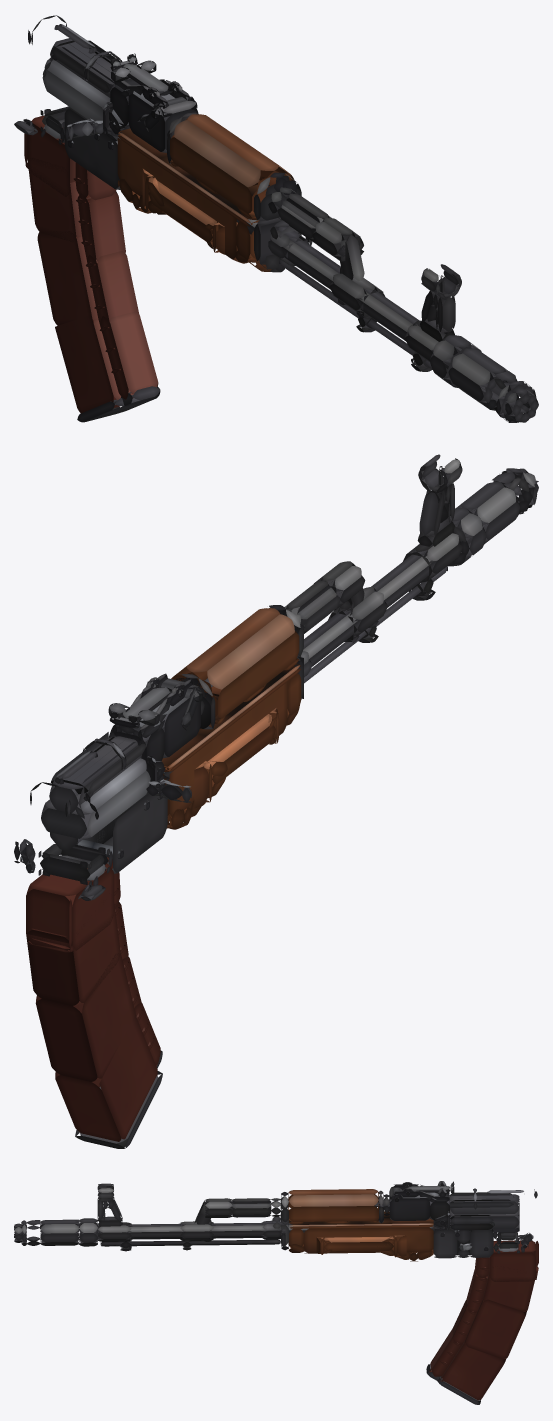
File: Untitledtttttttttttt.fbx
The picture shows the model from 3 angles, top to bottom: view 1: azimuth 30°, elevation 25°; view 2: azimuth 150°, elevation 25°; view 3: azimuth 270°, elevation 25°; orthographic projection. The views are drawn at different scales.
Parts seen in each view (by area): view 1: cube_362, cube_363, cube_365, cube_350, cube_60, cube_366, cube_65, cube_364, cube_348, cube_1, cube_68, cube_104 (+28 smaller); view 2: cube_362, cube_363, cube_350, cube_348, cube_1, cube_60, cube_65, cube_169, cube_68, cube_171, cube_66, cube_104 (+12 smaller); view 3: cube_362, cube_363, cube_60, cube_348, cube_65, cube_350, cube_67, cube_171, cube_104, a really fucking big stick_270, octagon_254, cube_365 (+22 smaller).
Boxes of the visible parts, x1=… form: cube_362: x1=37, y1=231, x2=98, y2=325; cube_363: x1=55, y1=315, x2=133, y2=413; cube_365: x1=100, y1=311, x2=158, y2=399; cube_350: x1=28, y1=157, x2=89, y2=242; cube_60: x1=117, y1=138, x2=236, y2=259; cube_366: x1=87, y1=251, x2=138, y2=325; cube_65: x1=170, y1=135, x2=294, y2=214; cube_364: x1=77, y1=191, x2=125, y2=262; cube_348: x1=27, y1=116, x2=75, y2=196; cube_1: x1=64, y1=107, x2=120, y2=189; cube_68: x1=174, y1=120, x2=266, y2=189; cube_104: x1=128, y1=91, x2=198, y2=152; cube_362: x1=35, y1=953, x2=136, y2=1081; cube_363: x1=55, y1=1015, x2=157, y2=1141; cube_350: x1=26, y1=894, x2=120, y2=1005; cube_348: x1=26, y1=863, x2=114, y2=952; cube_1: x1=76, y1=782, x2=167, y2=873; cube_60: x1=163, y1=682, x2=287, y2=816; cube_65: x1=171, y1=631, x2=299, y2=719; cube_169: x1=41, y1=770, x2=150, y2=838; cube_68: x1=197, y1=614, x2=294, y2=692; cube_171: x1=49, y1=736, x2=141, y2=813; cube_66: x1=182, y1=608, x2=280, y2=685; cube_104: x1=131, y1=688, x2=200, y2=758; cube_362: x1=464, y1=1299, x2=526, y2=1358; cube_363: x1=440, y1=1341, x2=506, y2=1400; cube_60: x1=304, y1=1223, x2=433, y2=1253; cube_348: x1=489, y1=1240, x2=535, y2=1281; cube_65: x1=288, y1=1194, x2=378, y2=1221; cube_350: x1=482, y1=1263, x2=536, y2=1311; cube_67: x1=288, y1=1194, x2=378, y2=1206; cube_171: x1=449, y1=1194, x2=519, y2=1214; cube_104: x1=389, y1=1191, x2=429, y2=1220; a really fucking big stick_270: x1=100, y1=1239, x2=280, y2=1246; octagon_254: x1=97, y1=1225, x2=433, y2=1233; cube_365: x1=429, y1=1329, x2=462, y2=1377.
Size of the model in its own units: 20.55 by 75.6 by 164.
Materials: 1 (1 with a texture image).
